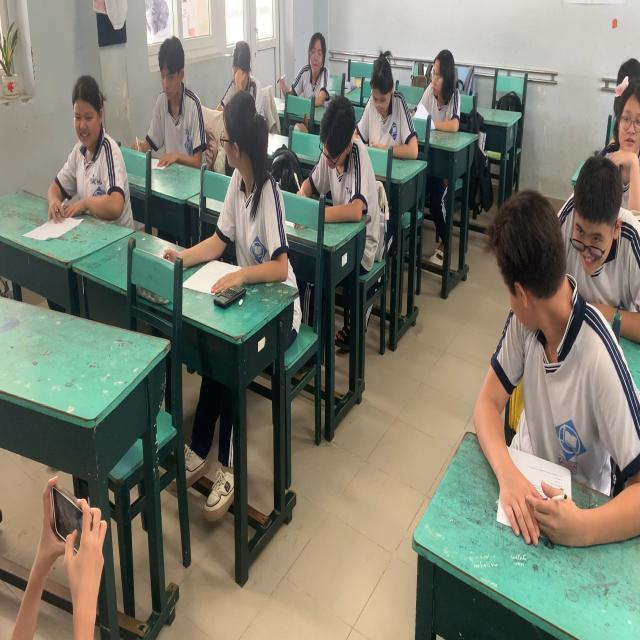cheating: (470, 202, 629, 558), (199, 102, 295, 298), (556, 126, 631, 292)
not_cheating: (66, 67, 136, 233), (137, 35, 205, 170), (309, 91, 373, 208), (356, 47, 424, 153), (421, 42, 460, 126), (300, 24, 334, 100), (213, 42, 264, 88)
